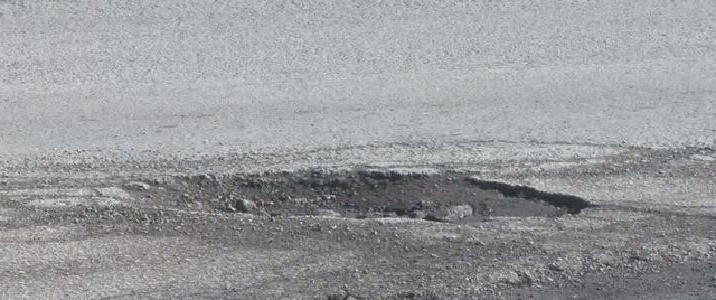pothole: (119, 159, 596, 225)
